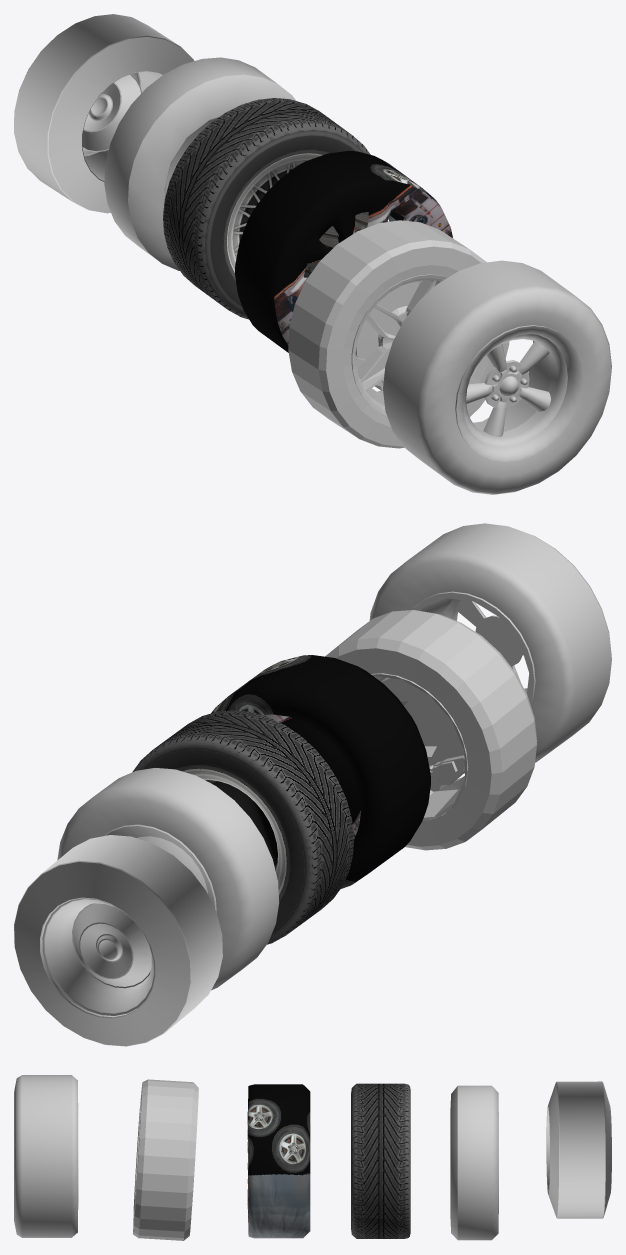
File: tyers.fbx
The picture shows the model from 3 angles, top to bottom: view 1: azimuth 30°, elevation 25°; view 2: azimuth 150°, elevation 25°; view 3: azimuth 270°, elevation 25°; orthographic projection. The views are drawn at different scales.
Visible parts, largest first — view 1: tyer, _tyer_2, _tyer, _tyer_3; view 2: tyer, _tyer_2, _tyer, _tyer_3; view 3: tyer, _tyer, _tyer_2, _tyer_3.
Part boxes in pixels (x1,y1,x2,y2): tyer: (14, 14, 611, 494); _tyer_2: (163, 98, 370, 319); _tyer: (235, 151, 452, 352); _tyer_3: (104, 57, 295, 270); tyer: (14, 523, 611, 1046); _tyer_2: (132, 710, 353, 944); _tyer: (211, 655, 430, 888); _tyer_3: (57, 768, 279, 990); tyer: (14, 1075, 611, 1240); _tyer: (247, 1084, 310, 1238); _tyer_2: (351, 1083, 410, 1238); _tyer_3: (450, 1085, 498, 1240).
Bounding box in the file's own units: 682 × 666 × 2309.
